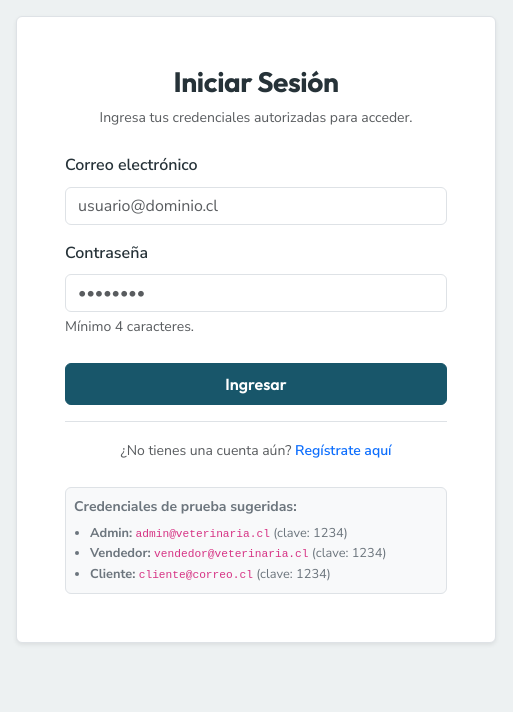
Test: Página Login › muestra error cuando la contraseña es muy corta
The image size is (513, 712).
Type "hernan@gmail.com" into the field labelled "Correo electrónico".
click(256, 206); type("hernan@gmail.com")  # box [65,187,447,225]
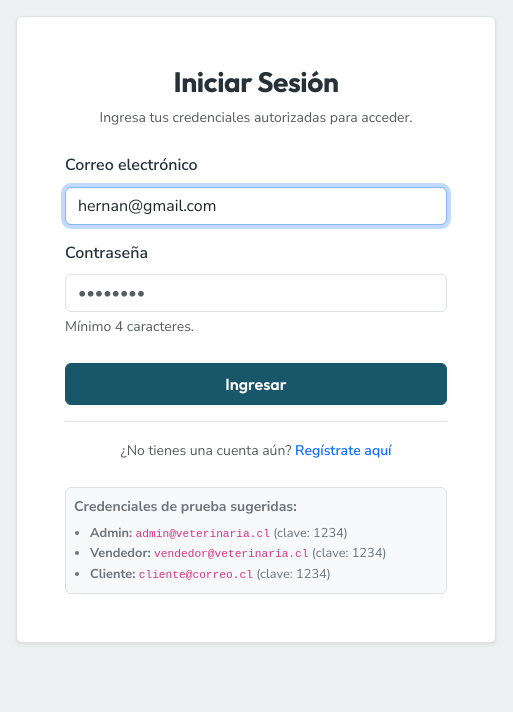
Type "12" into the password field labelled "Contraseña".
click(256, 293); type("12")  # box [65,274,447,312]
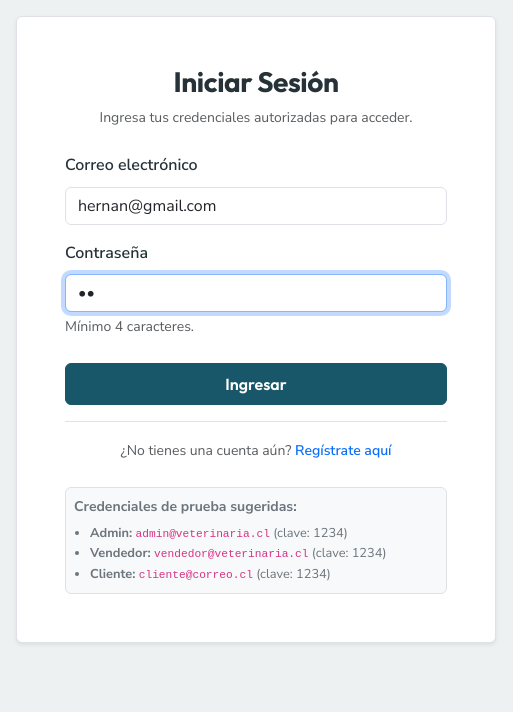
Click the button "Ingresar".
click(256, 384)  # box [65,363,447,405]
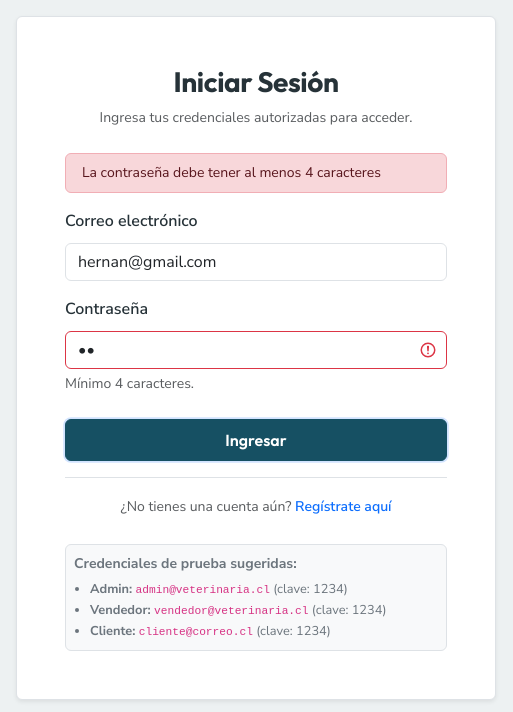
Check: the text "La contraseña debe tener al menos 4 caracteres" is shown, box [65,153,447,193]
